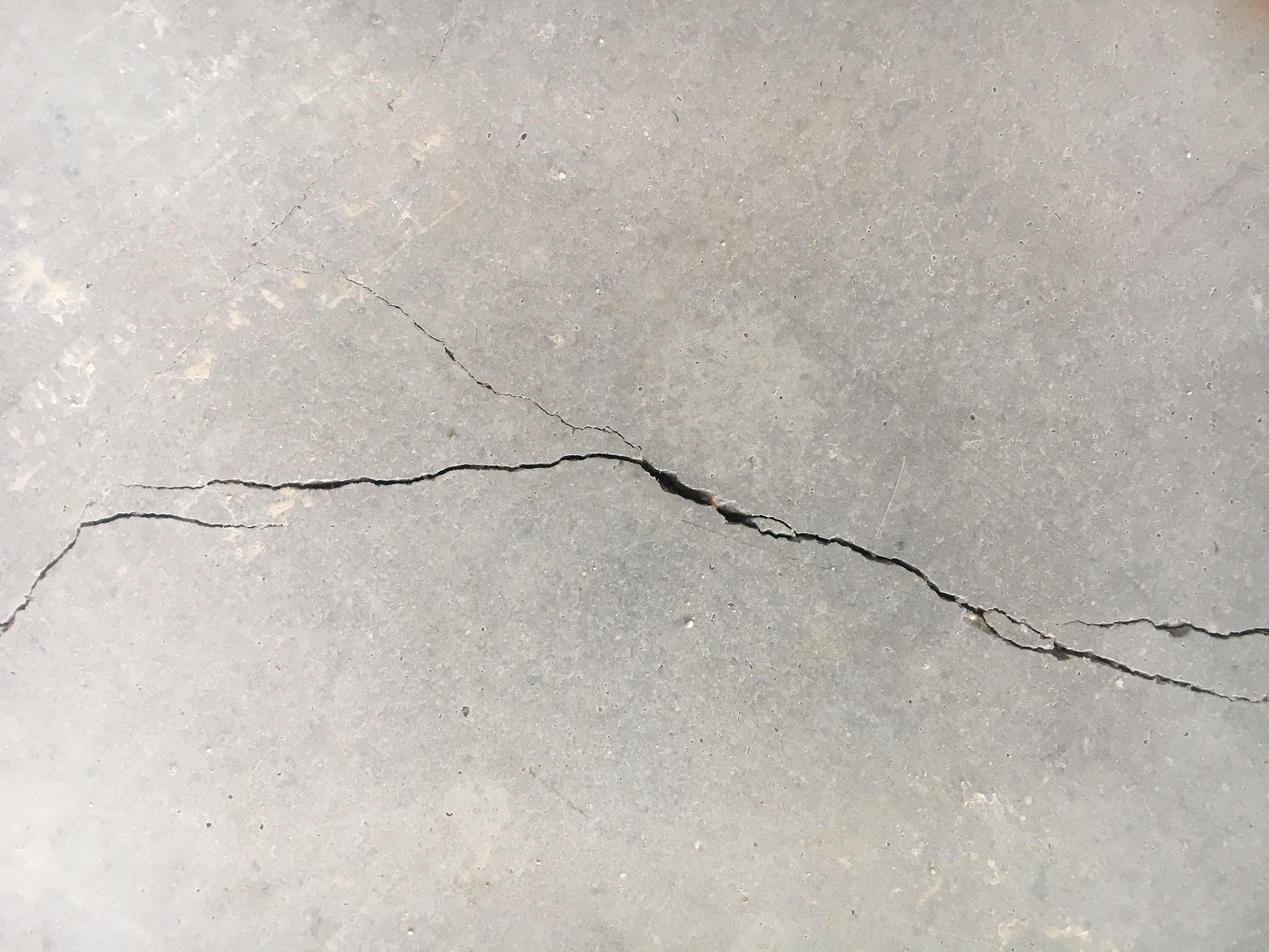Hairline-Crack: (341, 272, 642, 449)
Horizontal Settlement Crack: (1, 439, 1269, 739)
